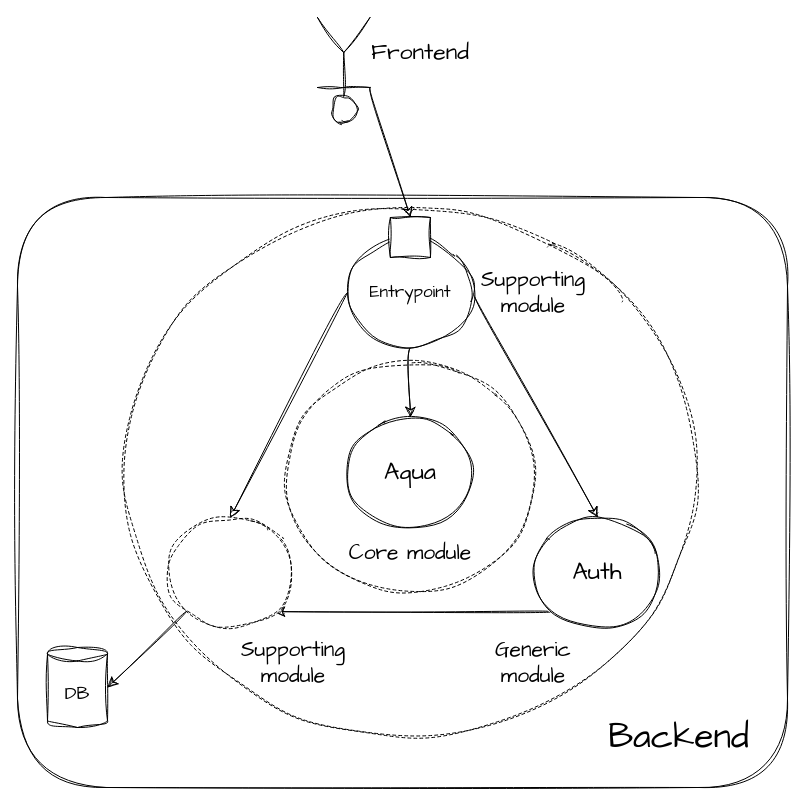
Image size: 805x805. Some labels were removed from this diagram. The shapes that lost their labels are listed below. From the top down, each one's centre as x and y in pixels, then its label:
At (409,237): "API".
At (229,572): "Shared".
